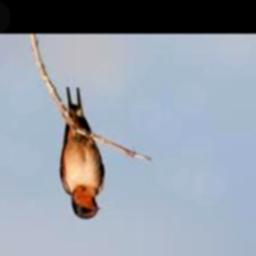Swallow: (60, 88, 104, 219)
